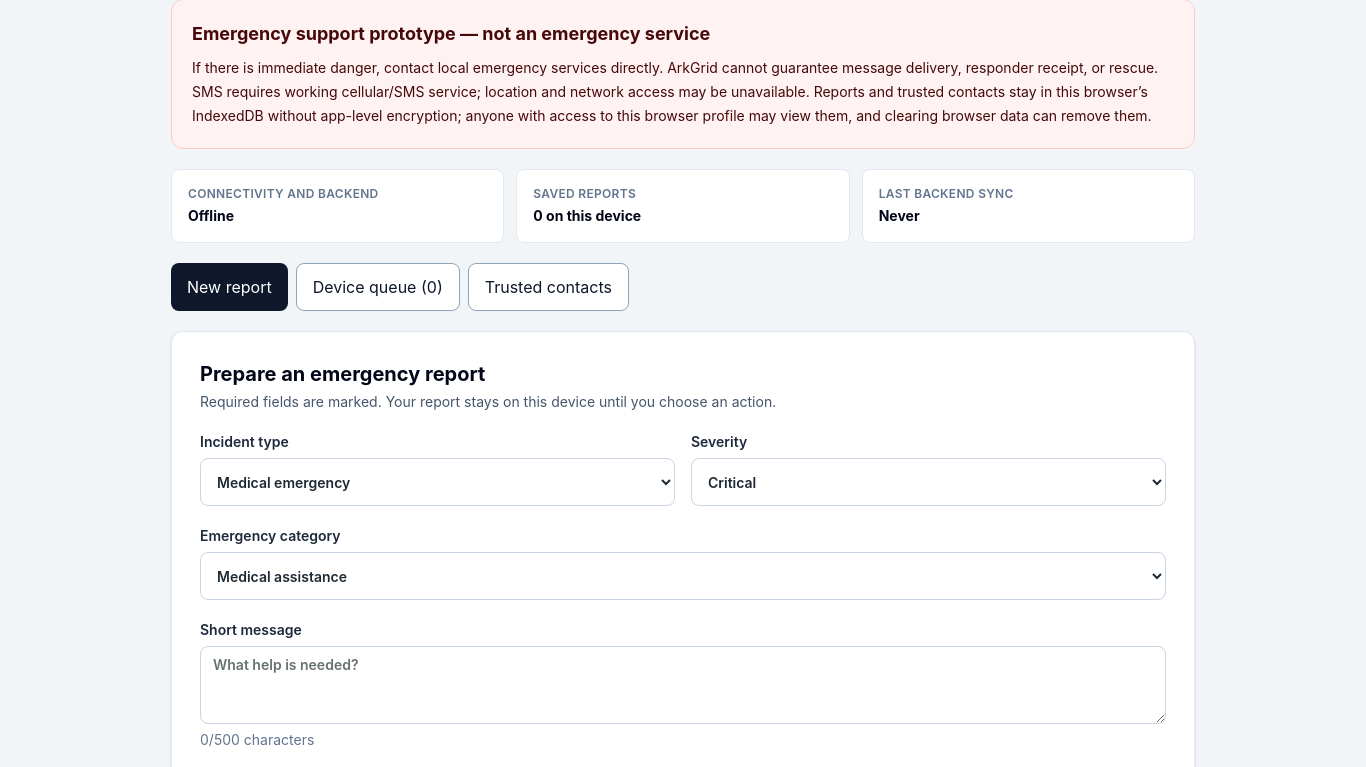
offline emergency mode › offers a demo ML category suggestion for review before applying it
This screenshot has width=1366, height=767.
expect the button "Trusted contacts" is shown: met, box [468, 263, 629, 311]
In the text box labelled "Short message 0/500 characters": (683,685) [200, 646, 1166, 724], type "We are trapped under rubble and need rescue"
(page scrolled)
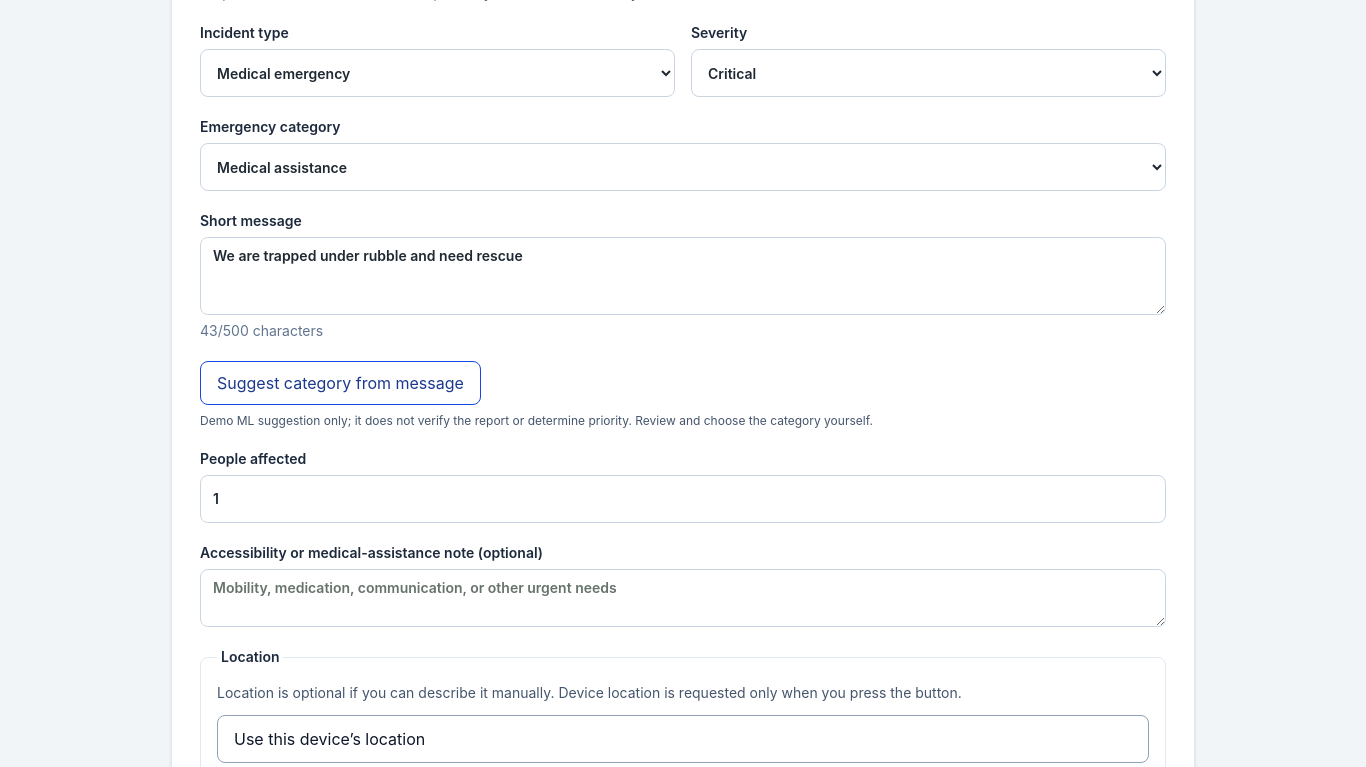
Click the button "Suggest category from message": (340,383) [200, 361, 481, 405]
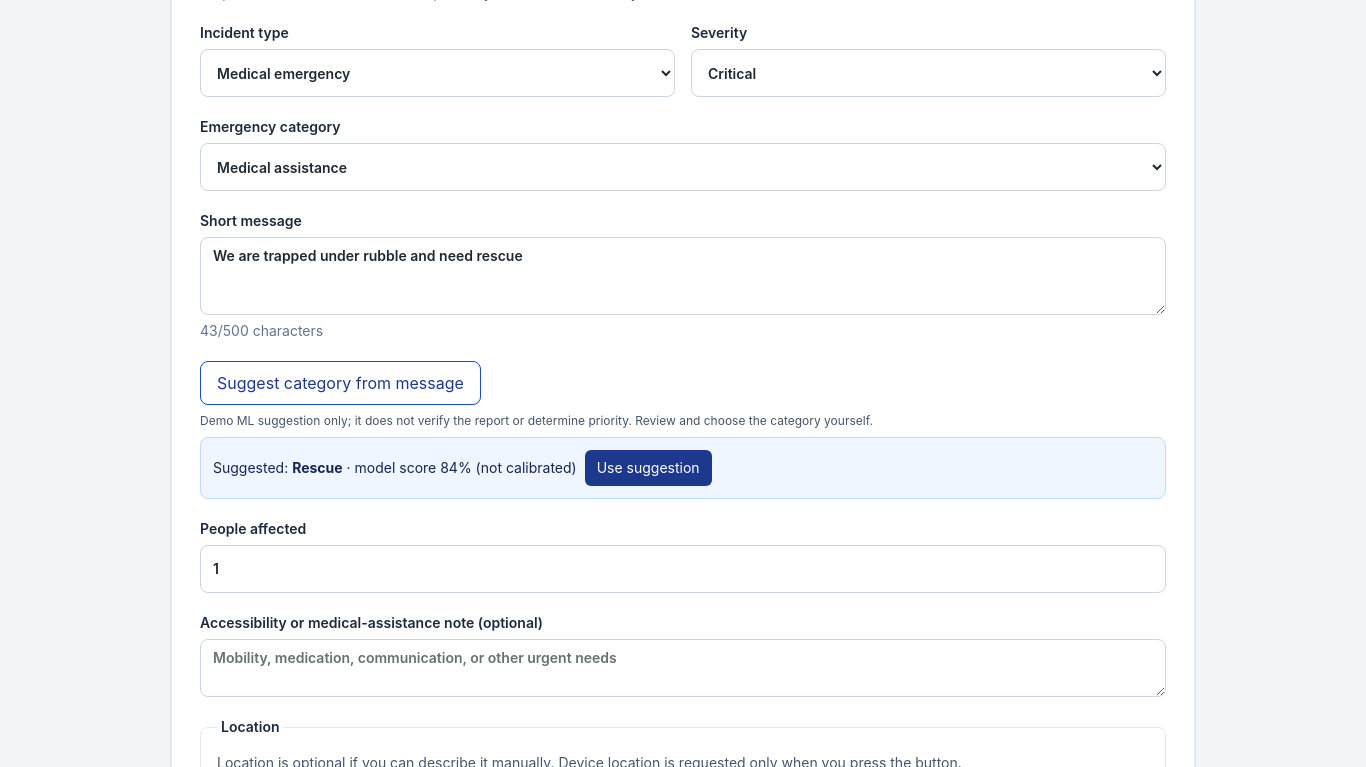
expect the dropdown labelled "Emergency category" shows "Medical assistance": met, box [200, 143, 1166, 191]
expect the button "Use suggestion" is shown: met
Click the button "Use suggestion": (648,468) [585, 450, 712, 486]
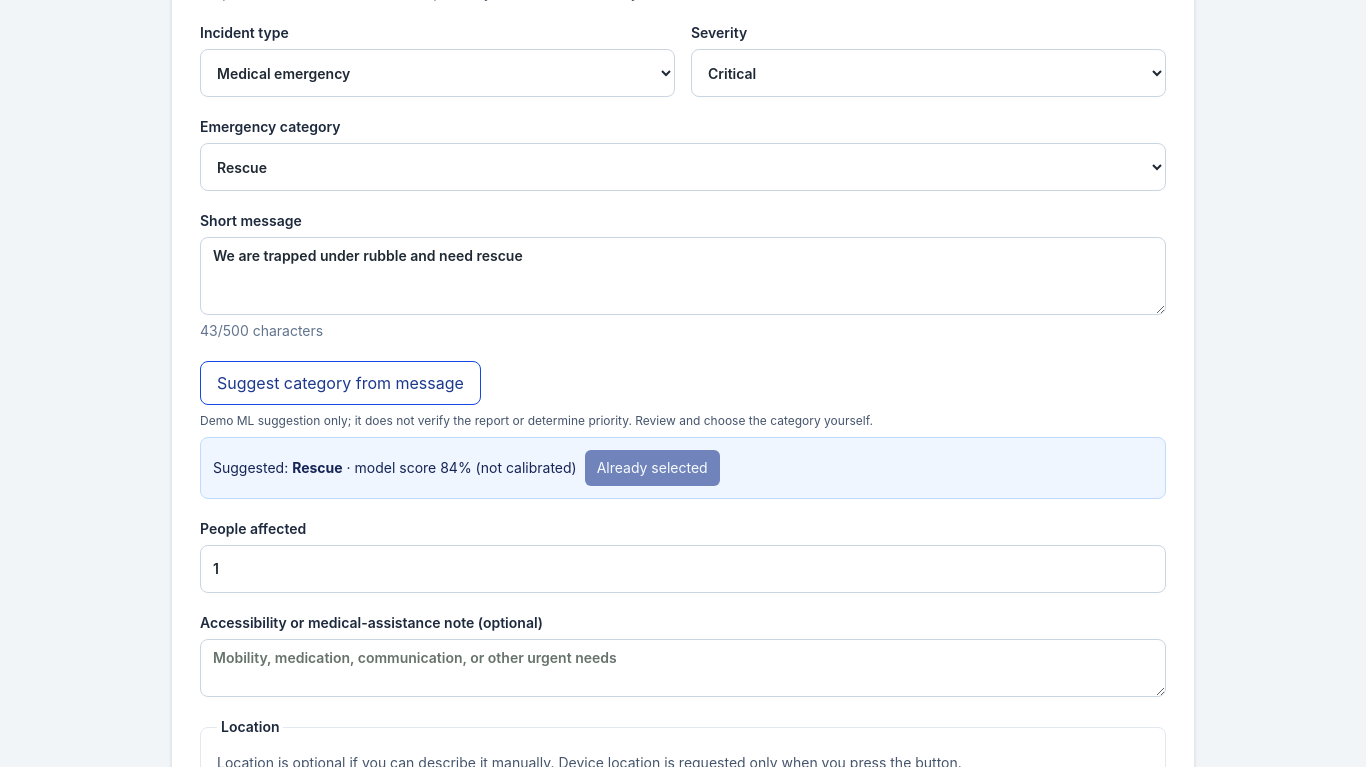
expect the dropdown labelled "Emergency category" shows "Rescue": met, box [200, 143, 1166, 191]
